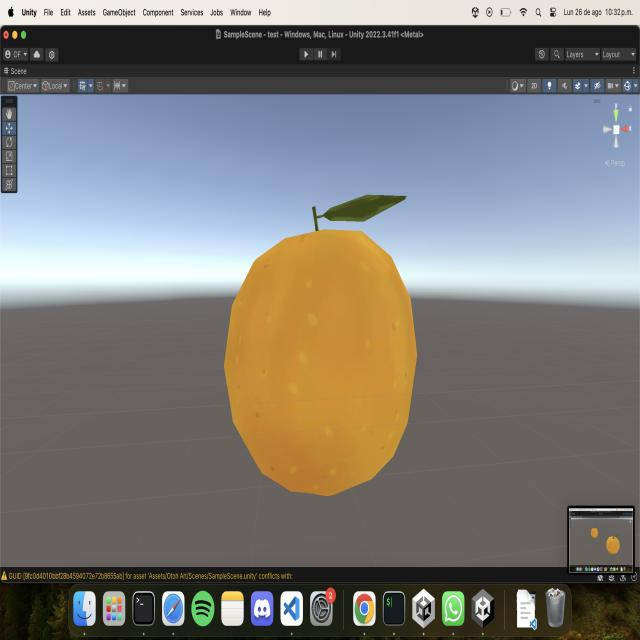oranges: (219, 184, 430, 511)
